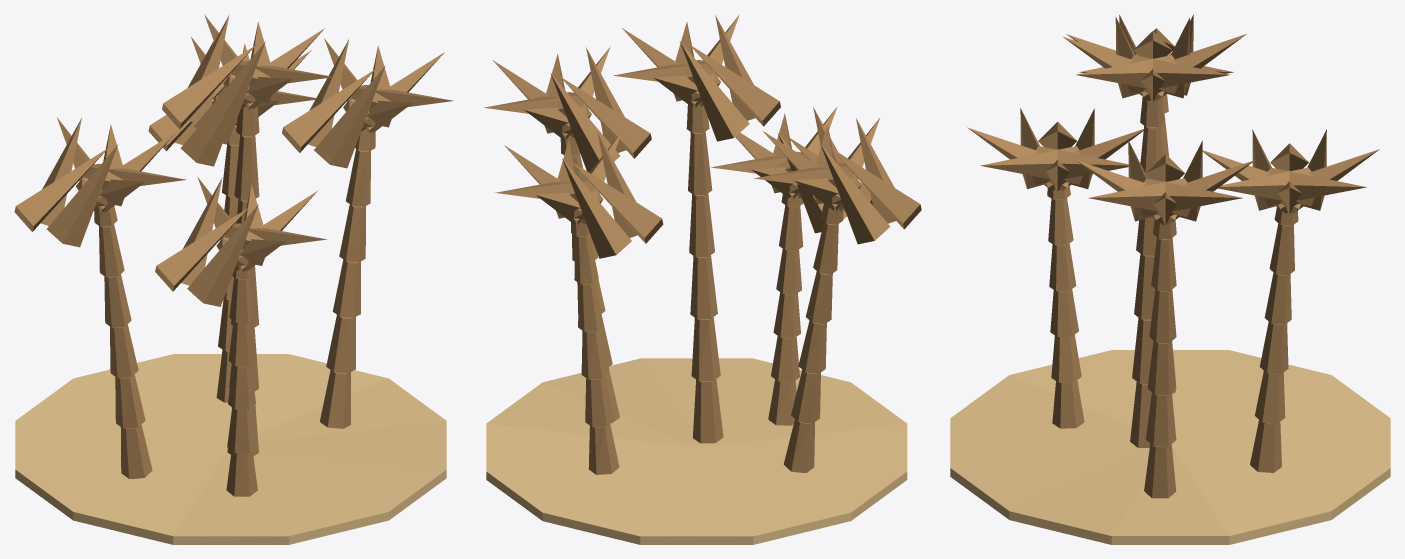
Rendered from Coconut-grove.glb.
3 views of the same model, side by side, from view 1: azimuth 30°, elevation 25°; view 2: azimuth 150°, elevation 25°; view 3: azimuth 270°, elevation 25° (orthographic). The views are drawn at different scales.
Parts seen in each view (by area): view 1: coconut-grove-static-coconut-grove-muted-sandy-ground, coconut-grove-static-coconut-grove-warm-segmented-trunks, coconut-grove-static-coconut-grove-light-young-fronds, coconut-grove-static-coconut-grove-deep-green-fronds, coconut-grove-static-coconut-grove-dark-coconuts; view 2: coconut-grove-static-coconut-grove-muted-sandy-ground, coconut-grove-static-coconut-grove-warm-segmented-trunks, coconut-grove-static-coconut-grove-deep-green-fronds, coconut-grove-static-coconut-grove-light-young-fronds, coconut-grove-static-coconut-grove-dark-coconuts; view 3: coconut-grove-static-coconut-grove-muted-sandy-ground, coconut-grove-static-coconut-grove-warm-segmented-trunks, coconut-grove-static-coconut-grove-deep-green-fronds, coconut-grove-static-coconut-grove-light-young-fronds.
Boxes of the visible parts, box(x1,y1,x2,y2) form: coconut-grove-static-coconut-grove-muted-sandy-ground: box(15, 354, 446, 544); coconut-grove-static-coconut-grove-warm-segmented-trunks: box(94, 106, 375, 496); coconut-grove-static-coconut-grove-light-young-fronds: box(46, 14, 444, 306); coconut-grove-static-coconut-grove-deep-green-fronds: box(14, 15, 453, 231); coconut-grove-static-coconut-grove-dark-coconuts: box(76, 75, 375, 266); coconut-grove-static-coconut-grove-muted-sandy-ground: box(486, 358, 907, 544); coconut-grove-static-coconut-grove-warm-segmented-trunks: box(560, 104, 843, 474); coconut-grove-static-coconut-grove-deep-green-fronds: box(484, 14, 921, 258); coconut-grove-static-coconut-grove-light-young-fronds: box(492, 15, 895, 237); coconut-grove-static-coconut-grove-dark-coconuts: box(560, 73, 861, 218); coconut-grove-static-coconut-grove-muted-sandy-ground: box(950, 350, 1390, 544); coconut-grove-static-coconut-grove-warm-segmented-trunks: box(1047, 58, 1298, 498); coconut-grove-static-coconut-grove-deep-green-fronds: box(1063, 14, 1366, 224); coconut-grove-static-coconut-grove-light-young-fronds: box(967, 14, 1379, 225).
Size of the model in its own units: 7.3 by 6.91 by 6.28.
